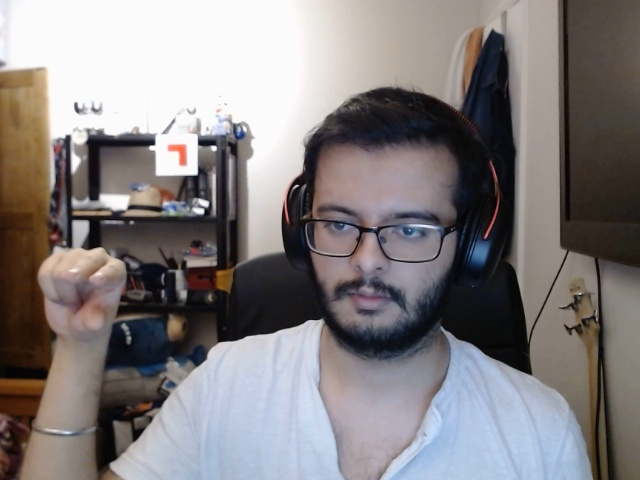No: (27, 240, 133, 355)
